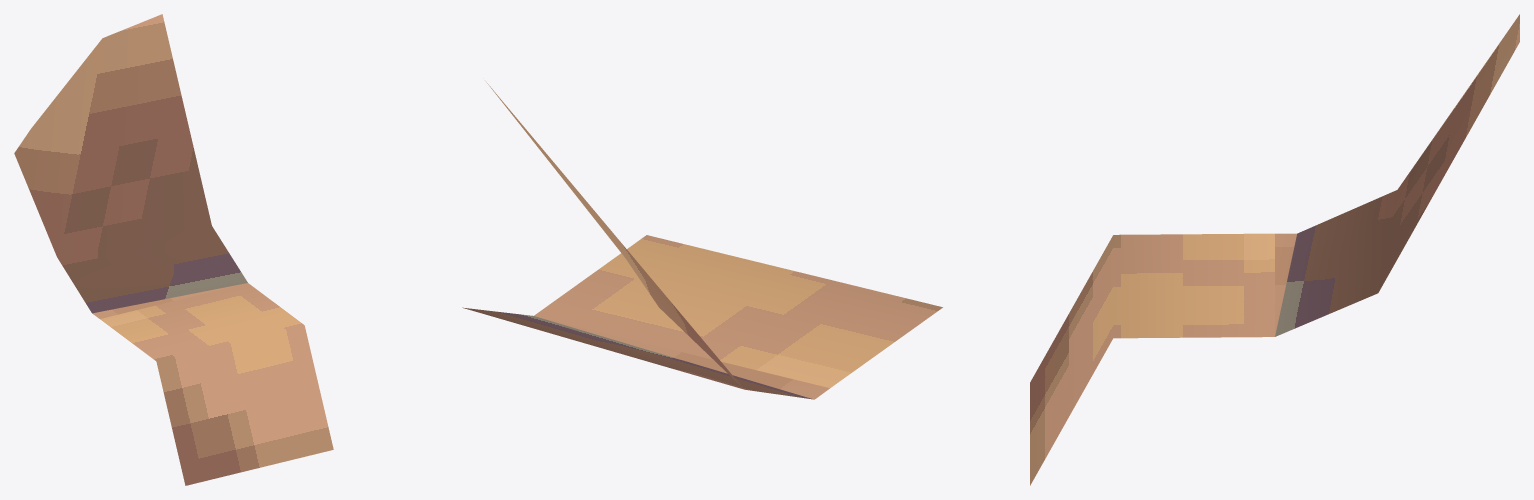
3 views of the same model, side by side, from view 1: azimuth 30°, elevation 25°; view 2: azimuth 150°, elevation 25°; view 3: azimuth 270°, elevation 25° (orthographic). The views are drawn at different scales.
Bounding box in the file's own units: 0.5 × 1 × 1.
Materials: 3 (3 with a texture image).
